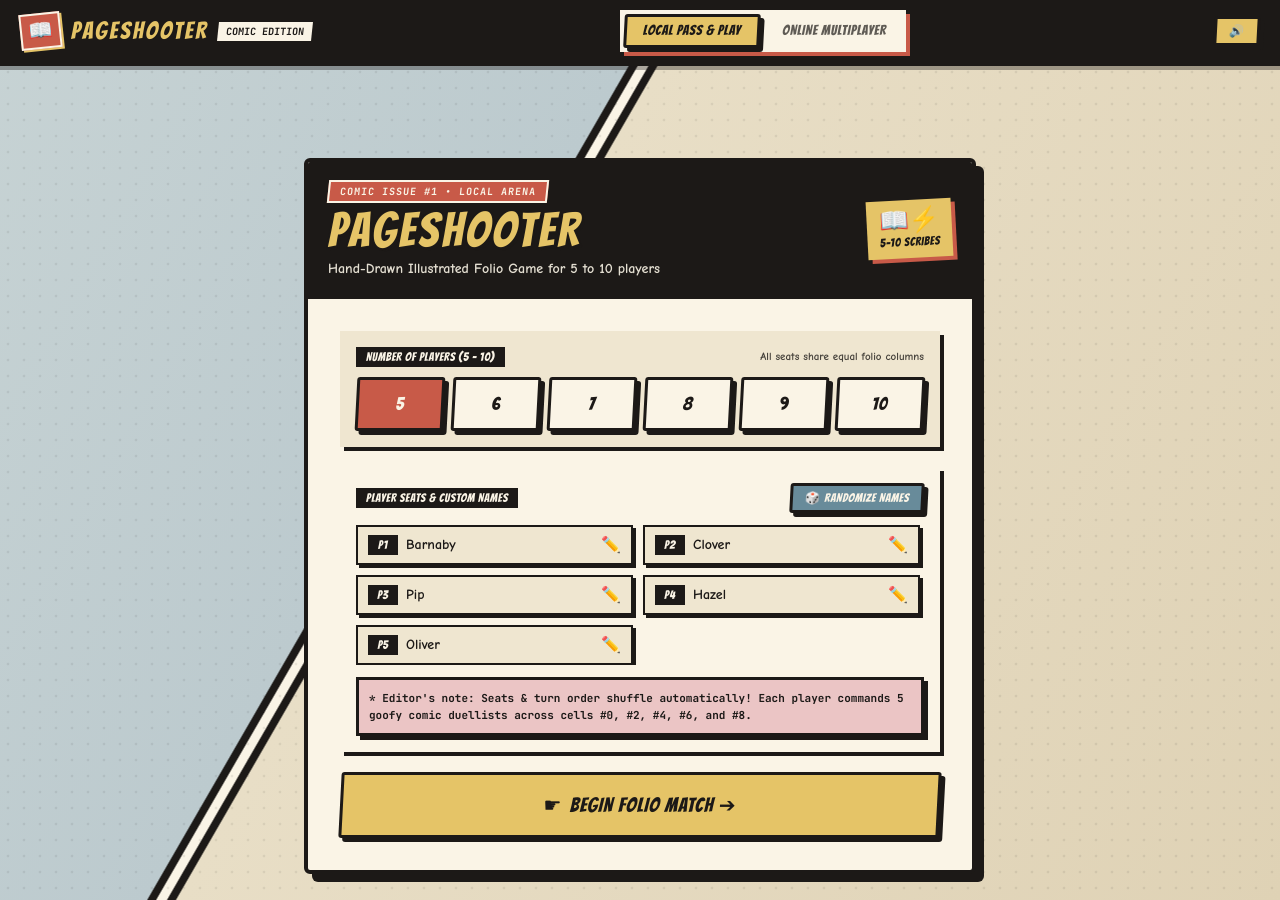
Test: Mode Switching & Offline Mode Isolation Tests › opens AudioSettingsModal when clicking Audio Settings from the top navigation bar
Click the button with test id "open-audio-settings": x=1237, y=31 [1214,16,1261,46]
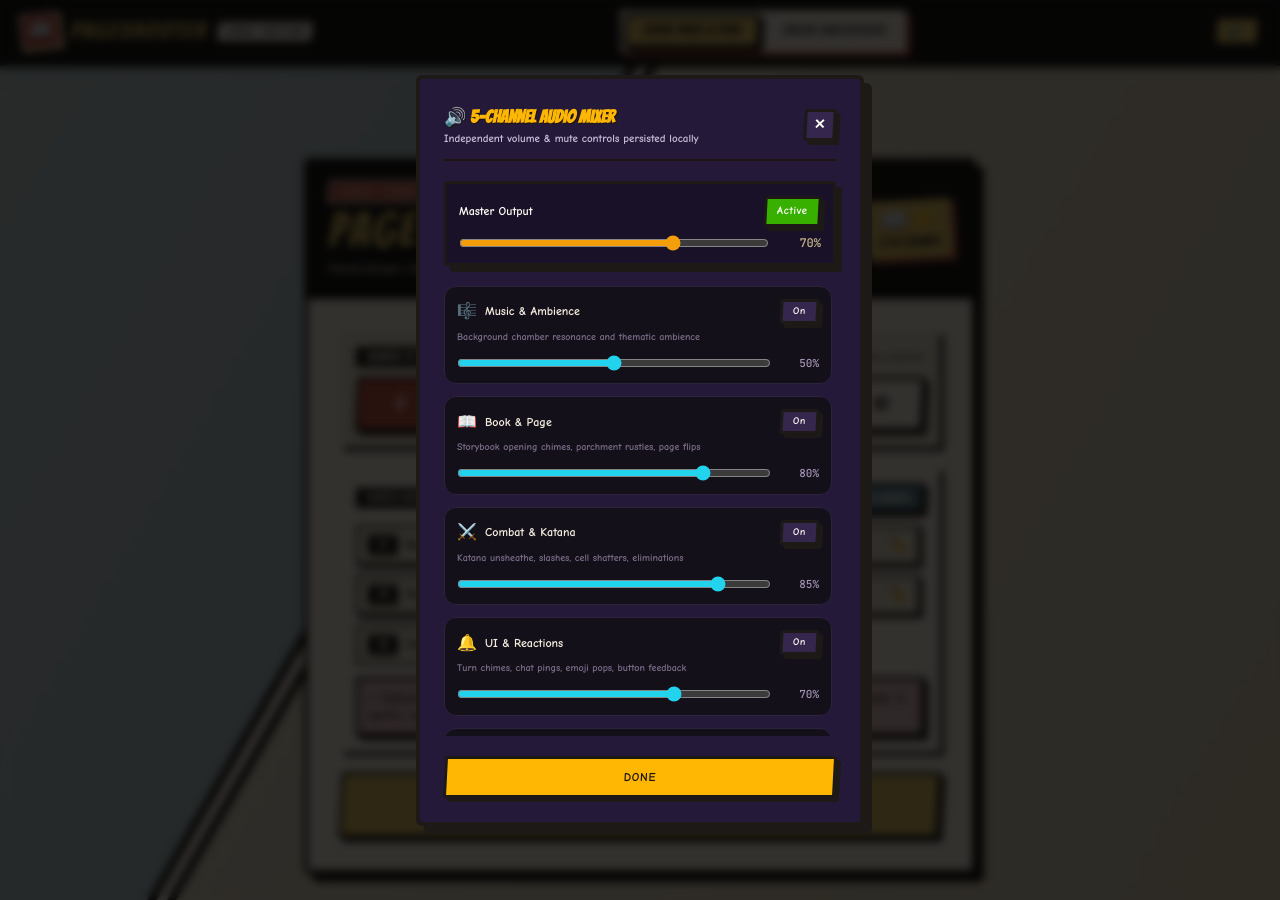
Result: the dialog is shown
Result: the heading "🔊 5-Channel Audio Mixer" is shown at [444,106,615,126]
// Close button dismisses the dialog
Click the button named "Close audio settings": x=820, y=125 [803,109,837,141]
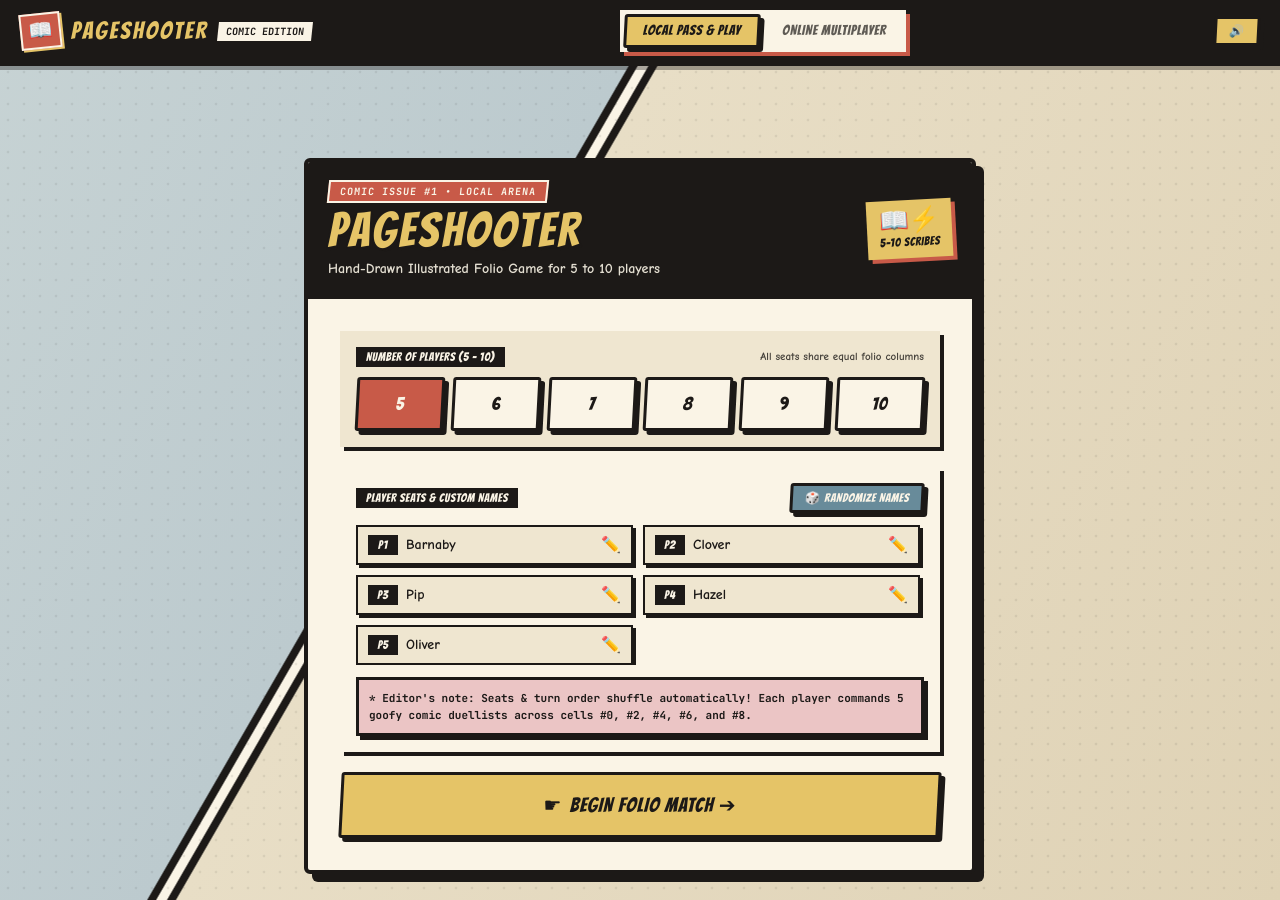
Result: the dialog is gone
